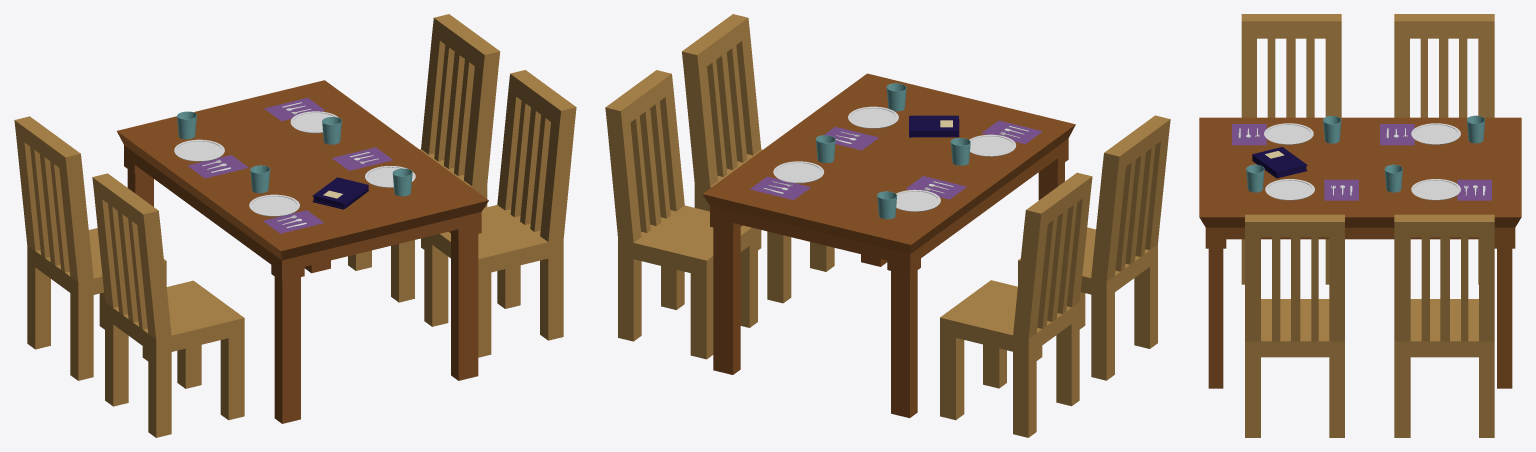
The model's file is tablenchairs.fbx.
3 views of the same model, side by side, from view 1: azimuth 30°, elevation 25°; view 2: azimuth 150°, elevation 25°; view 3: azimuth 270°, elevation 25° (orthographic). The views are drawn at different scales.
Parts seen in each view (by area): view 1: Cube, Cube.006, Cube.003, Cube.005, Cube.004, book, plate4, plate3, silverware.002, silverware, silverware.003, silverware.001 (+2 smaller); view 2: Cube, Cube.004, Cube.005, Cube.006, Cube.003, book, plate2, plate1, plate4, plate3, silverware.001, silverware.002 (+2 smaller); view 3: Cube, Cube.004, Cube.003, Cube.006, Cube.005, book, plate4, plate3, plate1, plate2, silverware, silverware.002 (+6 smaller).
Part boxes in pixels (left/top/right/bottom): Cube: left=117, top=80, right=488, bottom=423; Cube.006: left=92, top=173, right=244, bottom=437; Cube.003: left=424, top=70, right=576, bottom=357; Cube.005: left=14, top=116, right=166, bottom=380; Cube.004: left=348, top=14, right=500, bottom=302; book: left=312, top=177, right=368, bottom=209; plate4: left=249, top=194, right=299, bottom=216; plate3: left=174, top=139, right=224, bottom=161; silverware.002: left=263, top=210, right=323, bottom=233; silverware: left=332, top=147, right=392, bottom=170; silverware.003: left=188, top=155, right=248, bottom=178; silverware.001: left=264, top=98, right=325, bottom=121; Cube: left=702, top=73, right=1075, bottom=418; Cube.004: left=605, top=70, right=757, bottom=359; Cube.005: left=940, top=172, right=1092, bottom=437; Cube.006: left=1018, top=115, right=1170, bottom=380; Cube.003: left=682, top=14, right=834, bottom=303; book: left=909, top=115, right=959, bottom=137; plate2: left=773, top=161, right=824, bottom=183; plate1: left=848, top=106, right=898, bottom=128; plate4: left=969, top=134, right=1015, bottom=156; plate3: left=896, top=189, right=940, bottom=211; silverware.001: left=750, top=176, right=810, bottom=199; silverware.002: left=981, top=120, right=1042, bottom=144; Cube: left=1199, top=117, right=1521, bottom=388; Cube.004: left=1394, top=214, right=1494, bottom=437; Cube.003: left=1245, top=214, right=1344, bottom=437; Cube.006: left=1241, top=14, right=1341, bottom=284; Cube.005: left=1394, top=14, right=1494, bottom=284; book: left=1252, top=147, right=1307, bottom=178; plate4: left=1264, top=123, right=1313, bottom=144; plate3: left=1411, top=123, right=1460, bottom=144; plate1: left=1265, top=179, right=1314, bottom=200; plate2: left=1411, top=179, right=1460, bottom=200; silverware: left=1324, top=179, right=1358, bottom=200; silverware.002: left=1232, top=124, right=1266, bottom=145.
Bounding box in the file's own units: 1780 × 888 × 1165.
